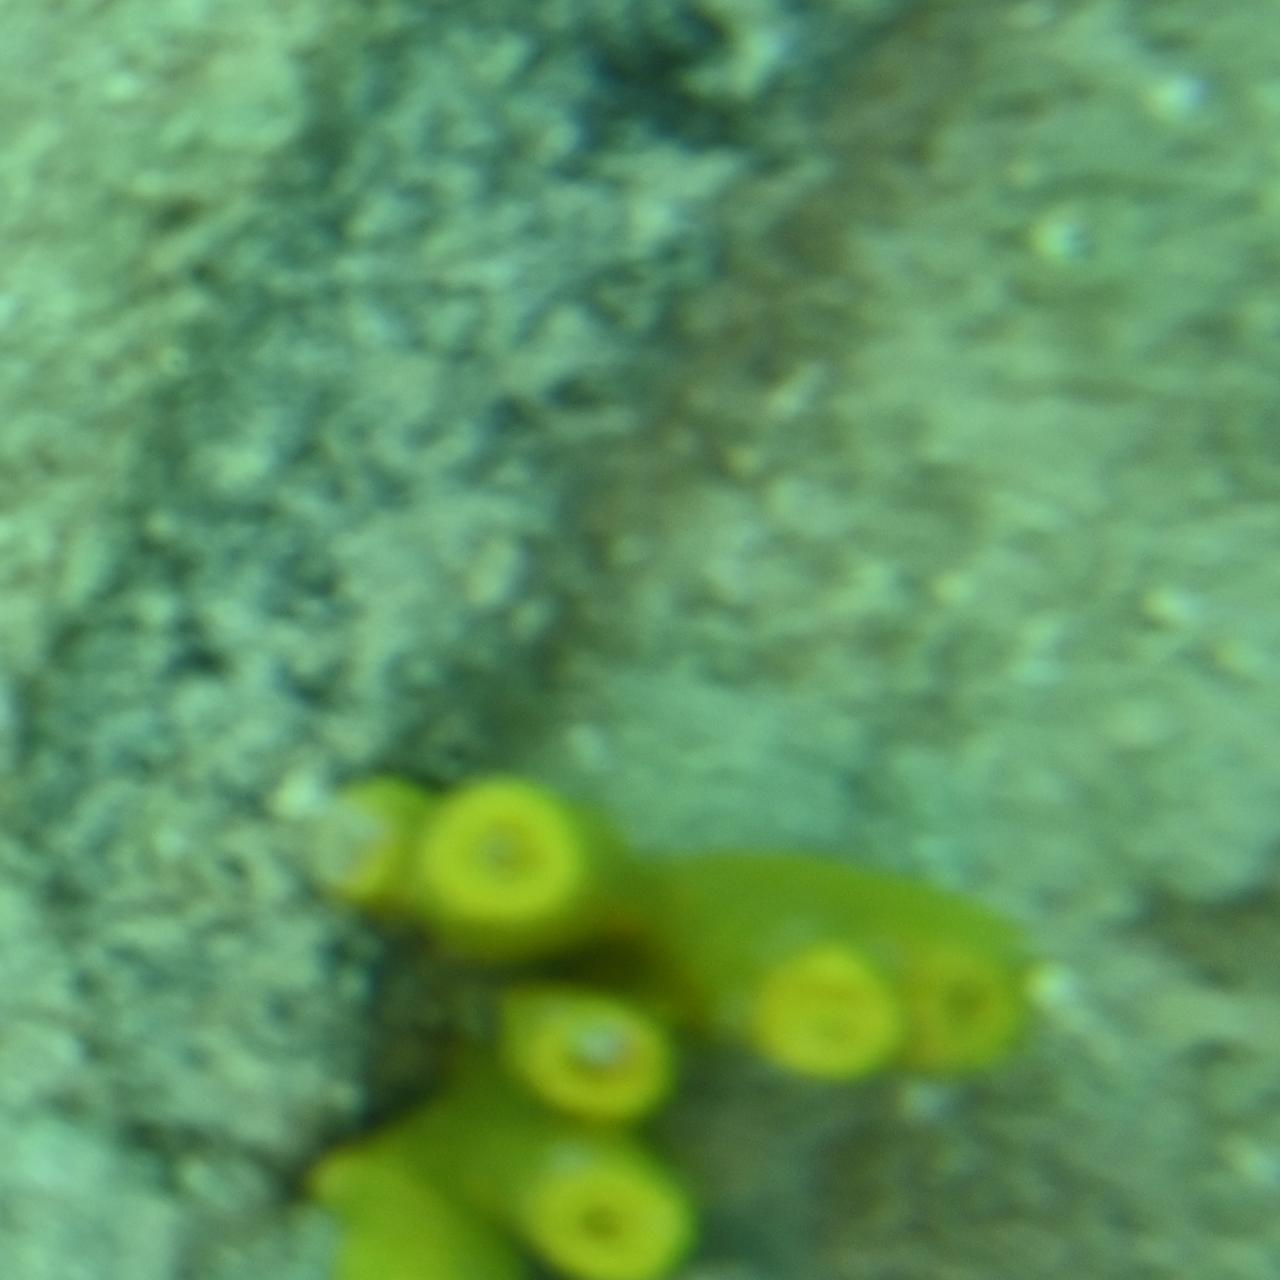Aplysina aerophoba: (281, 765, 1033, 1280)
Holothuria tubulosa: (14, 0, 1233, 823)
